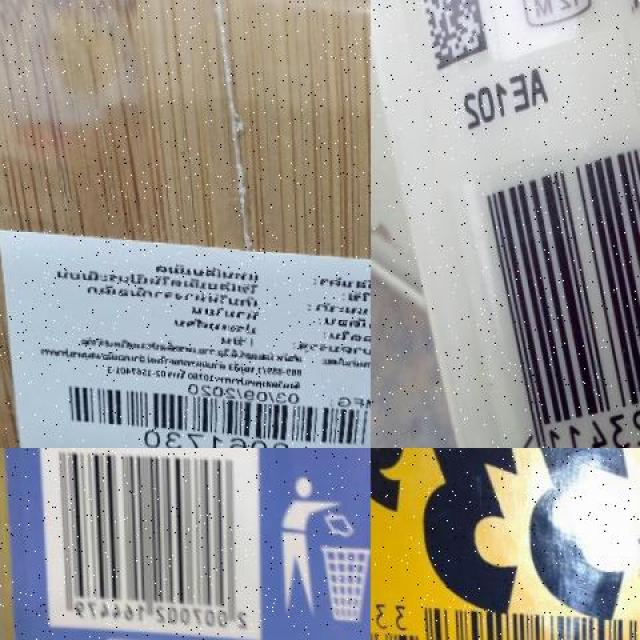Barcode: (464, 57, 640, 448), (36, 448, 261, 633), (44, 380, 371, 448), (418, 596, 640, 640)
